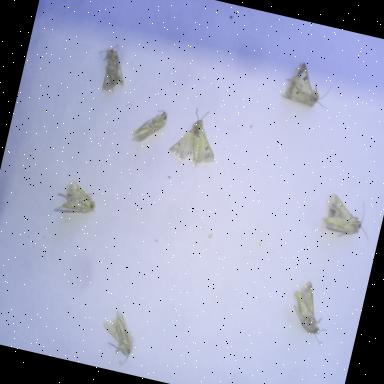abw: (164, 98, 234, 172), (282, 272, 344, 350), (316, 184, 382, 256), (274, 52, 346, 115), (90, 300, 146, 372), (82, 38, 136, 104), (47, 173, 107, 228), (126, 94, 174, 152)
